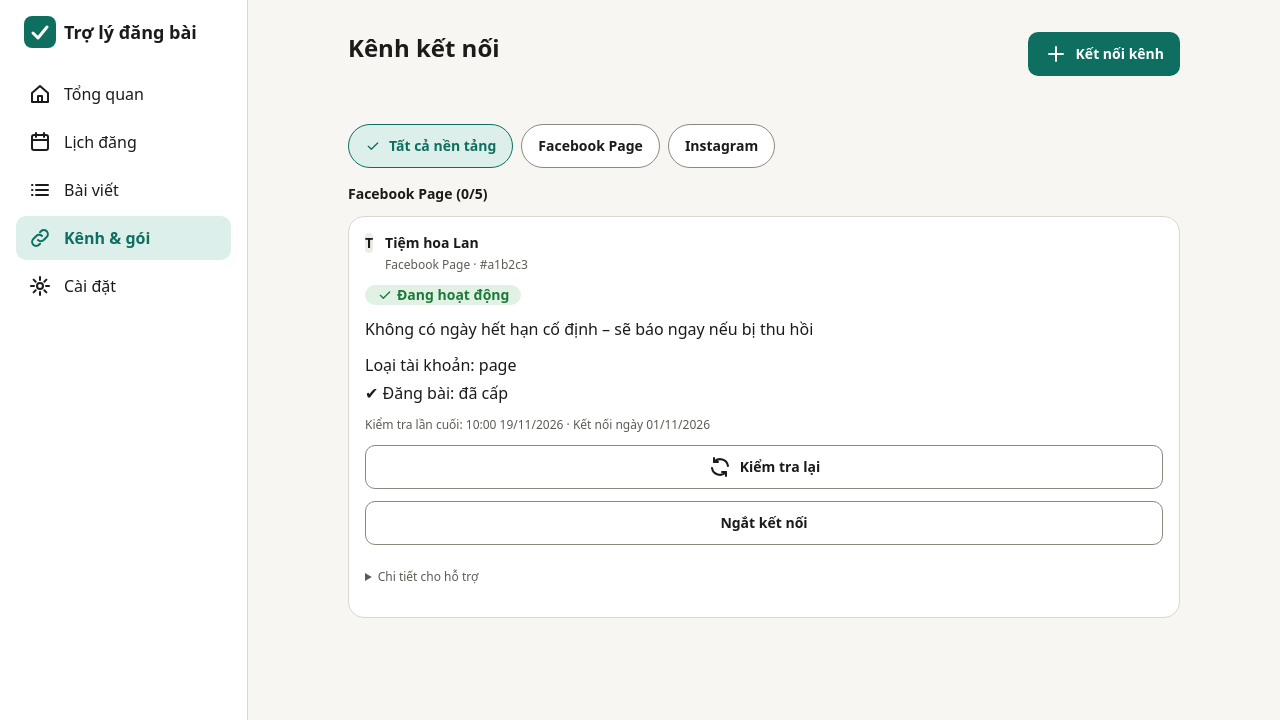
Test: ChannelsPage › Kiểm tra lại: "unavailable" ⇒ thông báo "Chưa kiểm tra được", thẻ không đổi
Click the button "Kiểm tra lại". click: (764, 467)
box: [365, 445, 1163, 489]
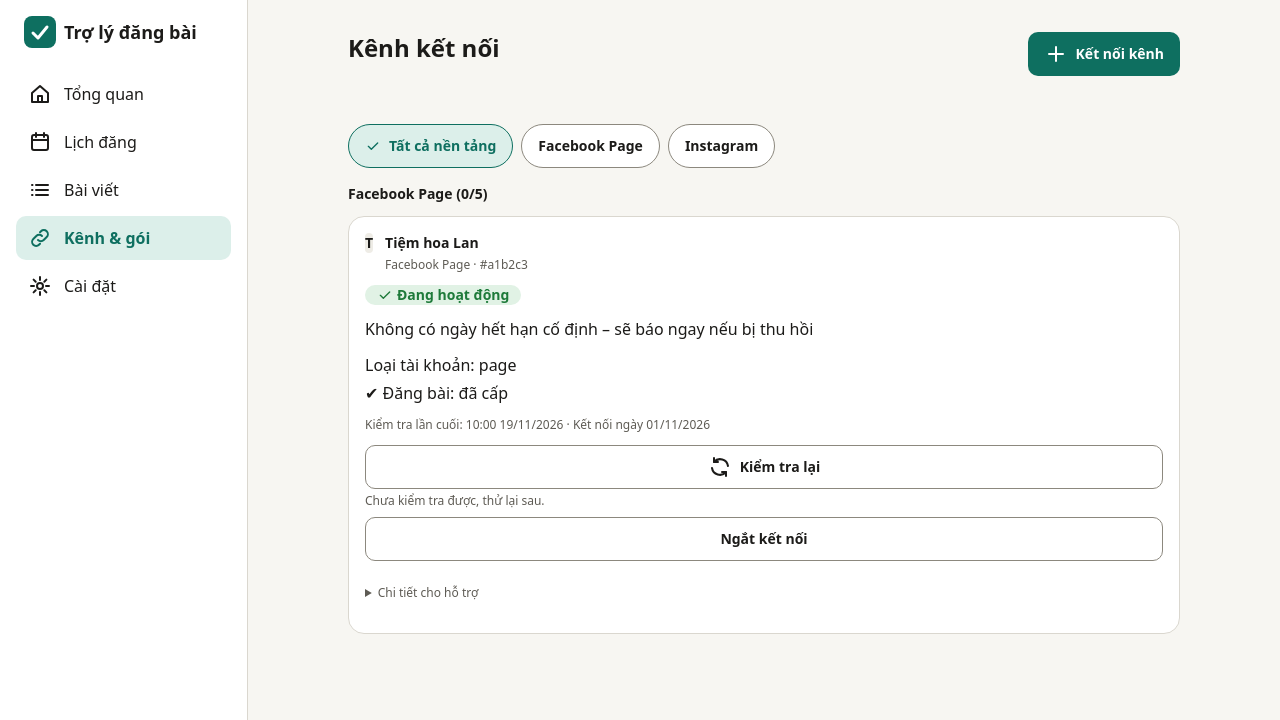
Check: the text "Đang hoạt động" is shown, box [397, 285, 509, 305]
Check: the text "Chưa kiểm tra được, thử lại sau." is shown, box [365, 492, 544, 509]
